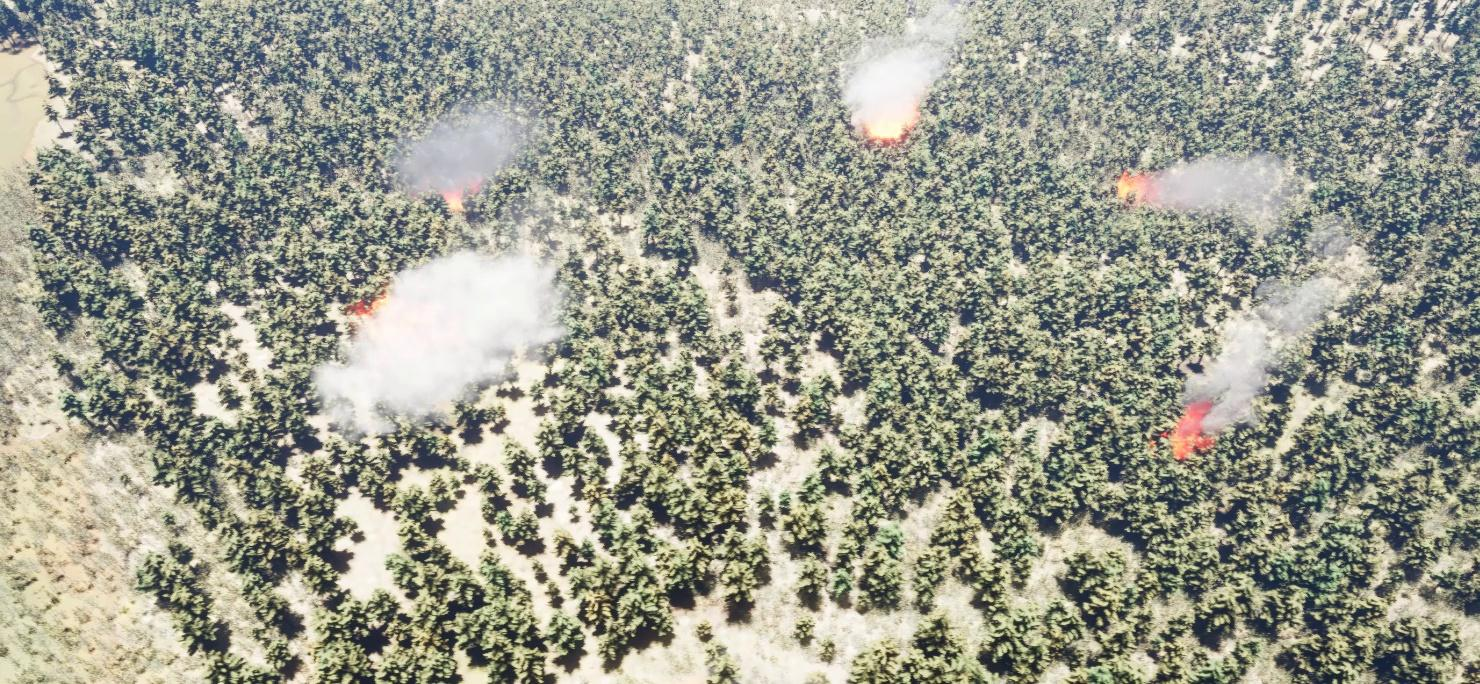fire: (1165, 404, 1219, 463), (868, 111, 924, 147), (1112, 170, 1150, 206), (437, 186, 481, 217)
smoke: (309, 240, 558, 432), (1189, 283, 1335, 442), (832, 0, 968, 140), (396, 101, 530, 219), (1140, 155, 1301, 229)
